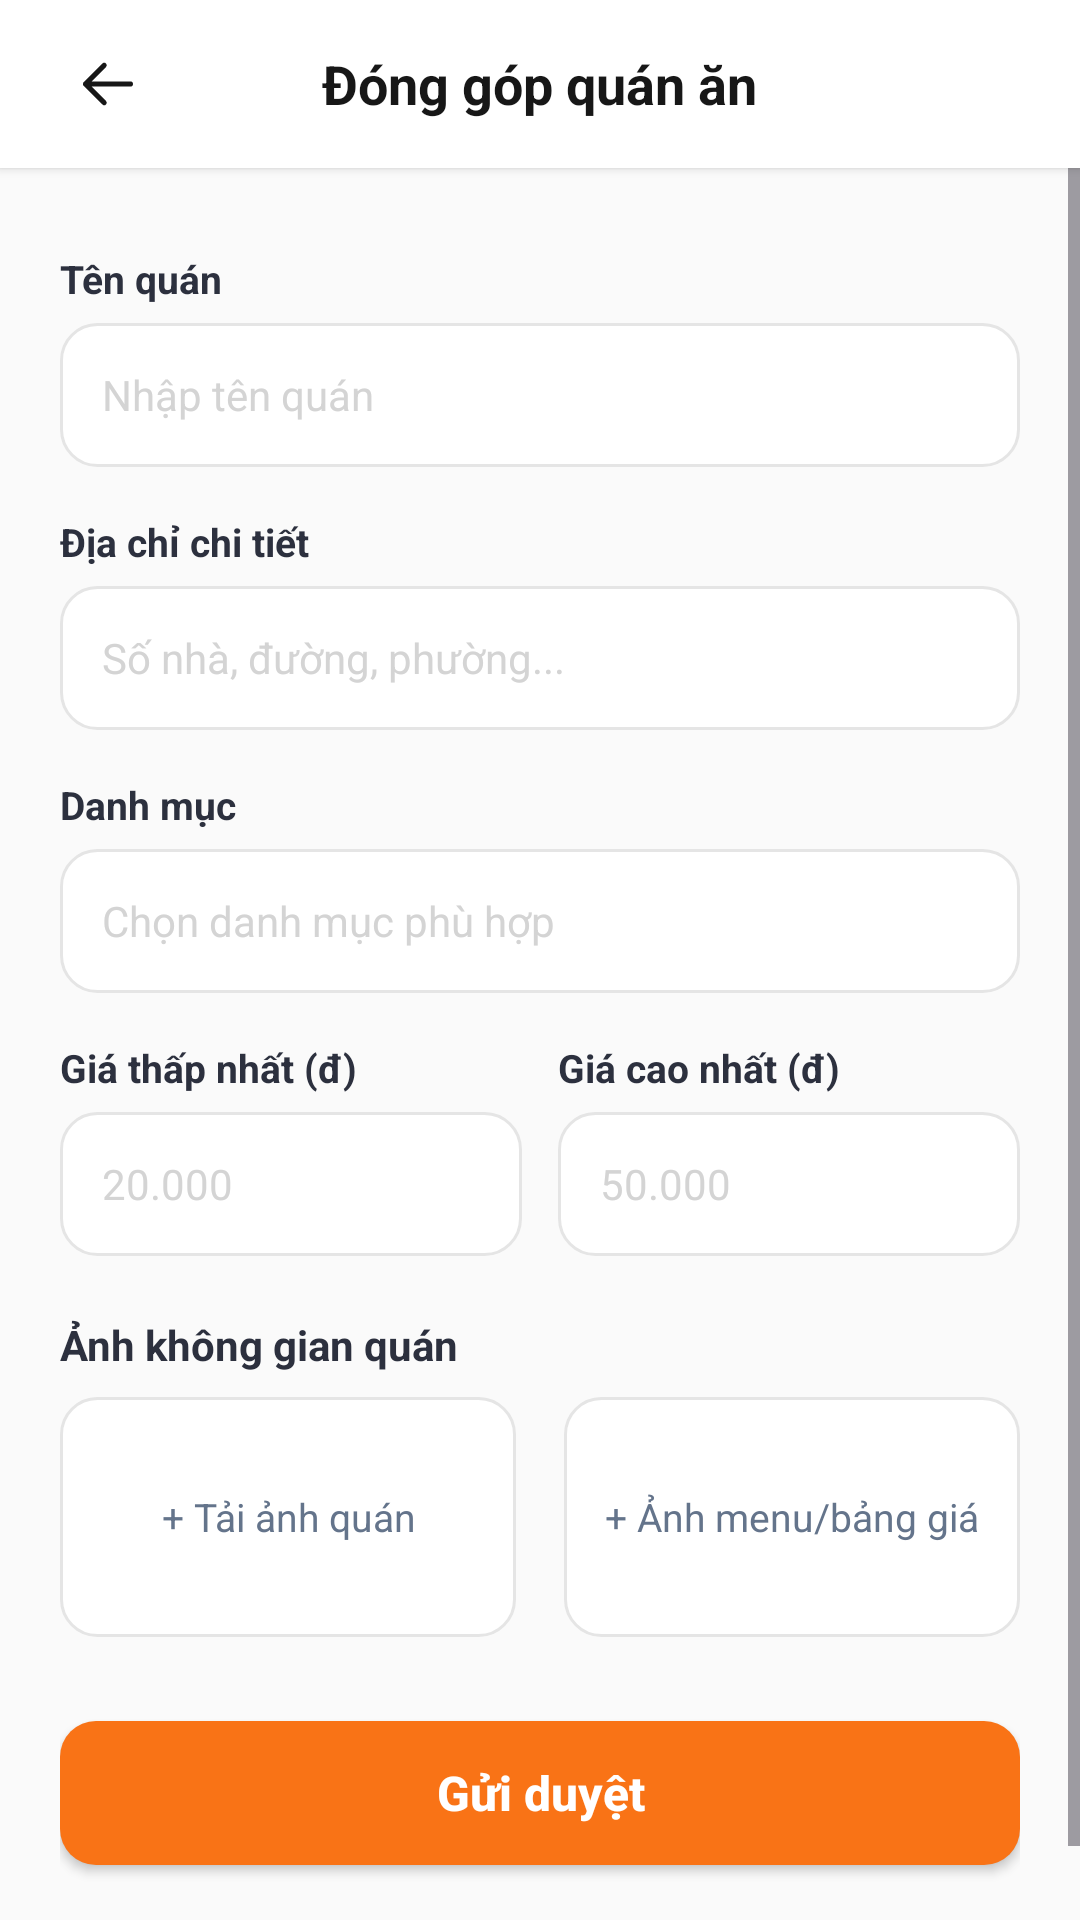

Icons on this 1080x1920 Android screen, each with the point to tap as (x,y):
arrow left: (108,84)
